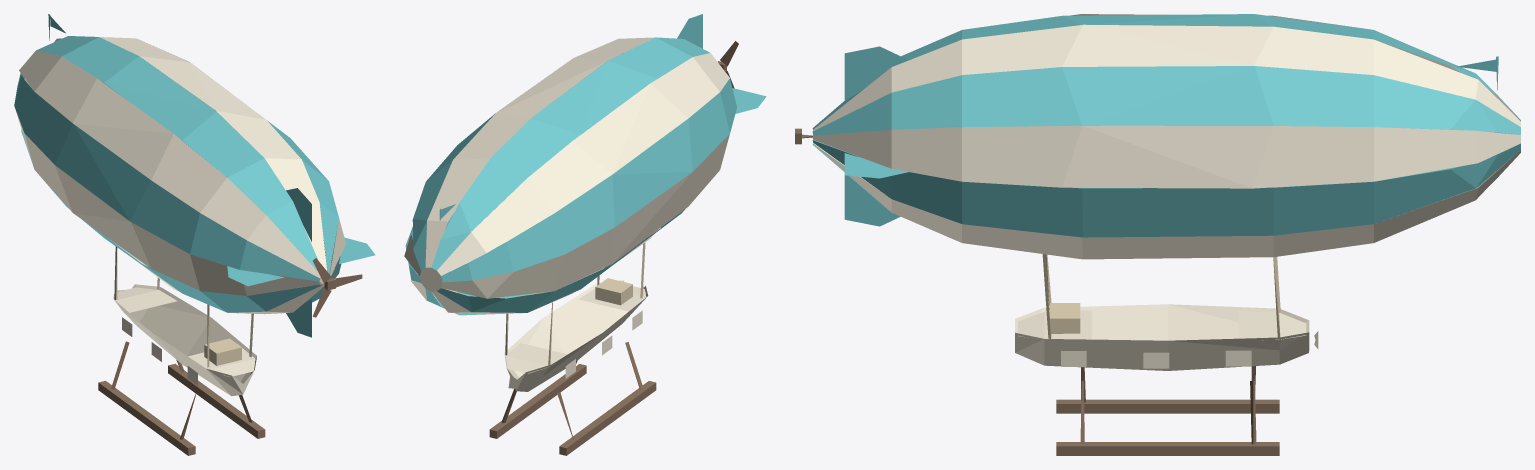
The model's file is 67-Vehiculos_globo_del_viento.glb.
The picture shows the model from 3 angles, left to right: view 1: azimuth 30°, elevation 25°; view 2: azimuth 150°, elevation 25°; view 3: azimuth 270°, elevation 25°; orthographic projection. The views are drawn at different scales.
Visible parts, largest first — view 1: SM_Globo_M_Globo_Acento, SM_Globo_M_Globo_Lona, SM_Globo_M_Globo_Madera, SM_Globo_M_Globo_MaderaOscura, SM_Globo_M_Globo_Cuerda, SM_Globo_M_Globo_Farol; view 2: SM_Globo_M_Globo_Lona, SM_Globo_M_Globo_Acento, SM_Globo_M_Globo_Madera, SM_Globo_M_Globo_MaderaOscura, SM_Globo_M_Globo_Cuerda, SM_Globo_M_Globo_Farol; view 3: SM_Globo_M_Globo_Lona, SM_Globo_M_Globo_Acento, SM_Globo_M_Globo_Madera, SM_Globo_M_Globo_MaderaOscura, SM_Globo_M_Globo_Cuerda, SM_Globo_M_Globo_Farol.
Boxes of the visible parts, left/top/right/bottom form: SM_Globo_M_Globo_Acento: left=14, top=14, right=375, bottom=337; SM_Globo_M_Globo_Lona: left=15, top=37, right=345, bottom=314; SM_Globo_M_Globo_Madera: left=113, top=284, right=256, bottom=396; SM_Globo_M_Globo_MaderaOscura: left=98, top=258, right=362, bottom=455; SM_Globo_M_Globo_Cuerda: left=114, top=246, right=253, bottom=367; SM_Globo_M_Globo_Farol: left=117, top=290, right=197, bottom=385; SM_Globo_M_Globo_Lona: left=404, top=37, right=729, bottom=314; SM_Globo_M_Globo_Acento: left=405, top=14, right=766, bottom=315; SM_Globo_M_Globo_Madera: left=504, top=280, right=648, bottom=391; SM_Globo_M_Globo_MaderaOscura: left=489, top=41, right=738, bottom=455; SM_Globo_M_Globo_Cuerda: left=505, top=243, right=645, bottom=365; SM_Globo_M_Globo_Farol: left=508, top=310, right=642, bottom=388; SM_Globo_M_Globo_Lona: left=812, top=14, right=1520, bottom=259; SM_Globo_M_Globo_Acento: left=812, top=14, right=1520, bottom=237; SM_Globo_M_Globo_Madera: left=1015, top=304, right=1309, bottom=370; SM_Globo_M_Globo_MaderaOscura: left=795, top=128, right=1279, bottom=455; SM_Globo_M_Globo_Cuerda: left=1042, top=254, right=1280, bottom=338; SM_Globo_M_Globo_Farol: left=1061, top=331, right=1318, bottom=368.
Bounding box in the file's own units: 4.19 × 7.65 × 12.34.
